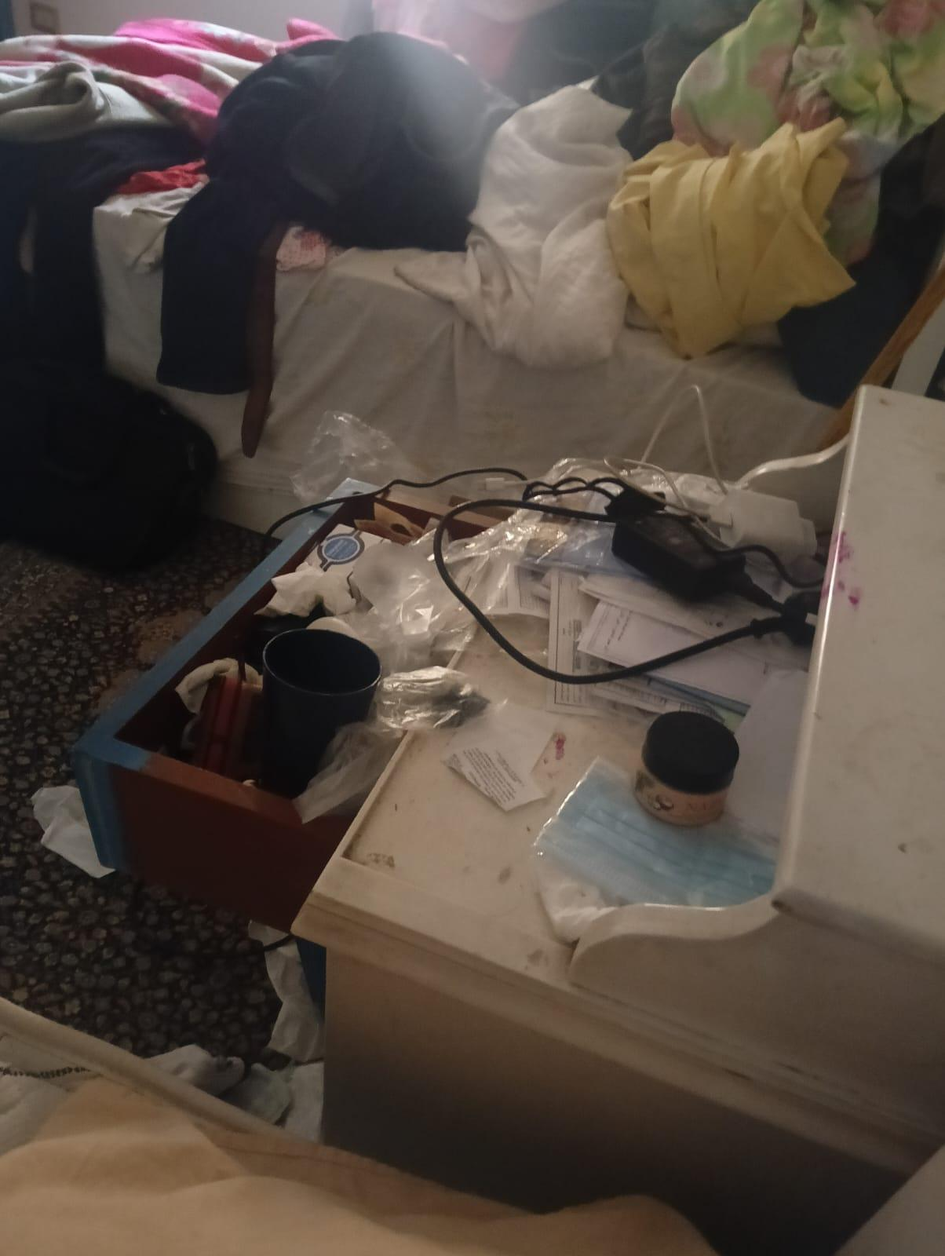cup: (261, 630, 381, 796)
